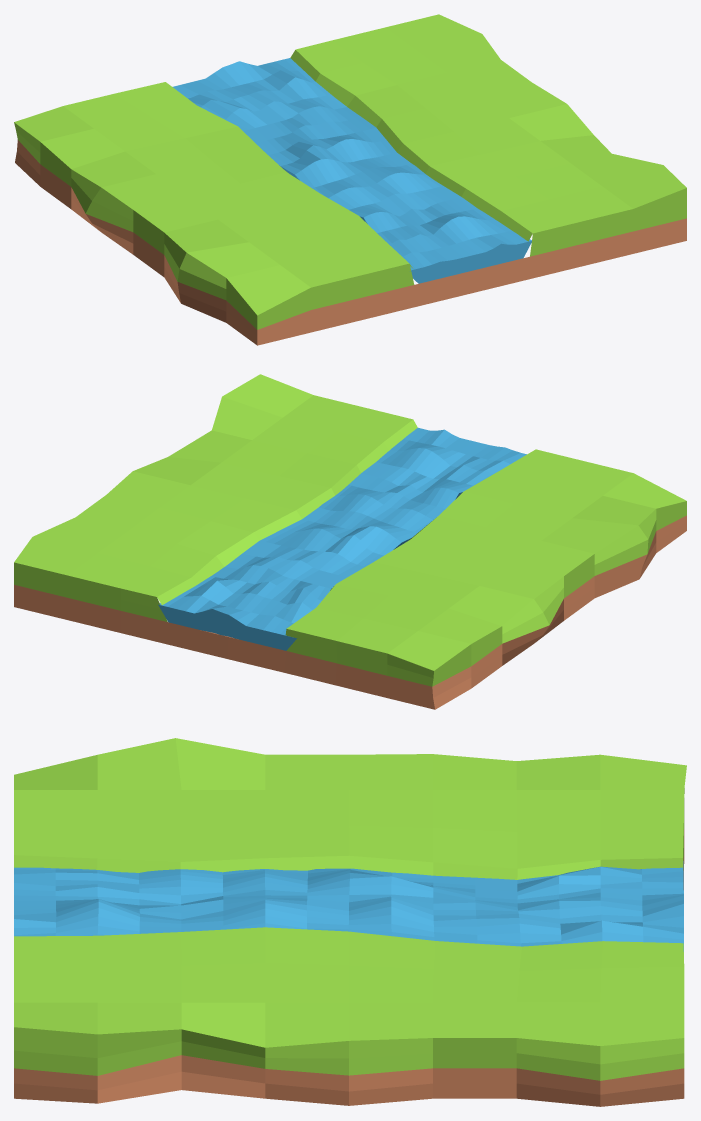
File: Ground.fbx
3 renders of one model, top to bottom at view 1: azimuth 30°, elevation 25°; view 2: azimuth 150°, elevation 25°; view 3: azimuth 270°, elevation 25°, orthographic. The views are drawn at different scales.
Parts seen in each view (by area): view 1: 地面; view 2: 地面; view 3: 地面.
Boxes of the visible parts, left/top/right/bottom form: 地面: left=14, top=14, right=686, bottom=345; 地面: left=14, top=374, right=686, bottom=709; 地面: left=14, top=738, right=686, bottom=1106.
Bounding box in the file's own units: 4363 × 4016 × 471.
